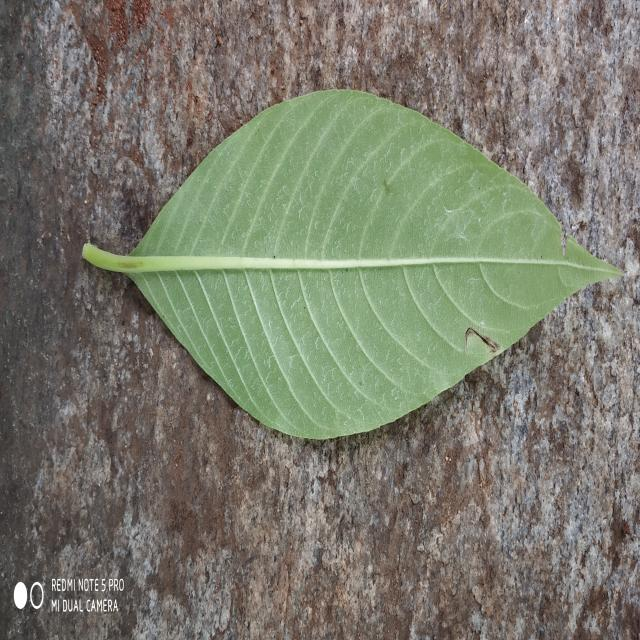malabar_nut: (82, 90, 621, 440)
